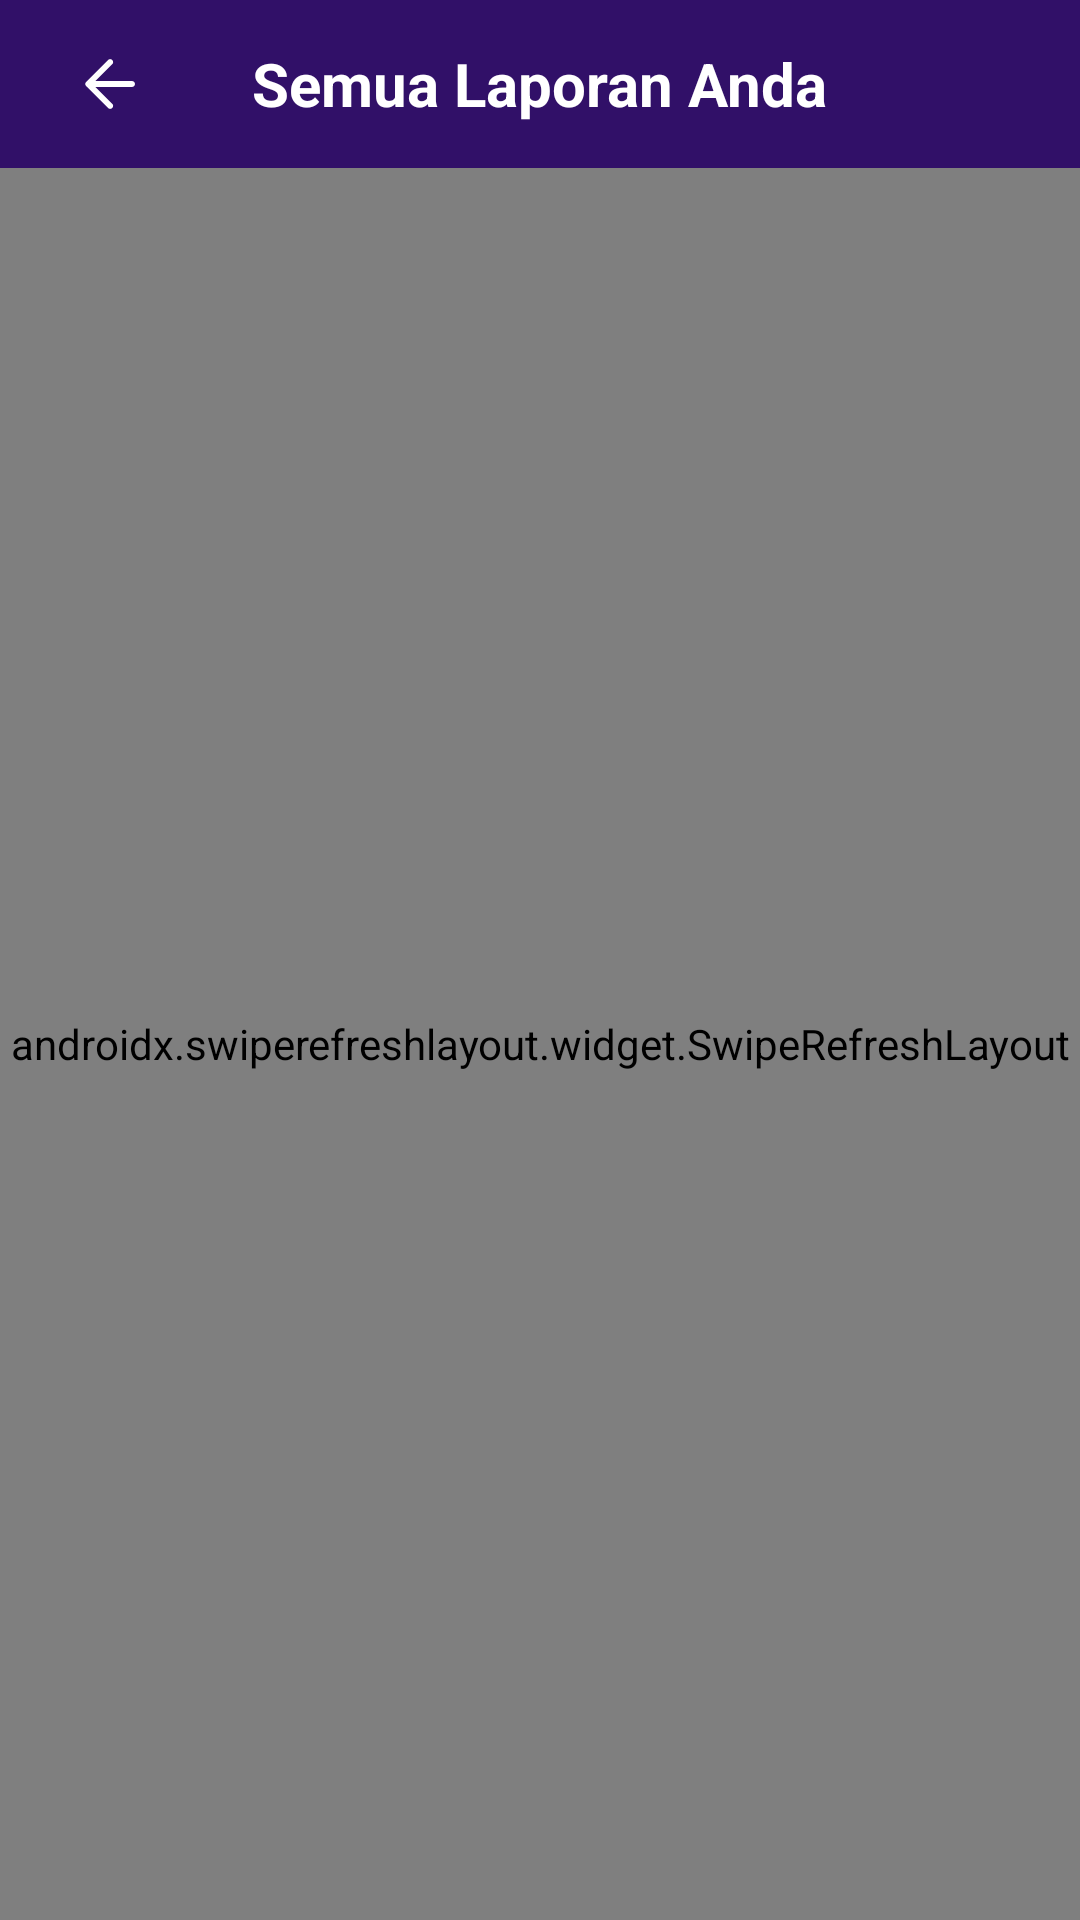

Where to tap for icons on this 1080×1920 app screen, as (x=x, y=y):
Kembali: (x=110, y=84)
